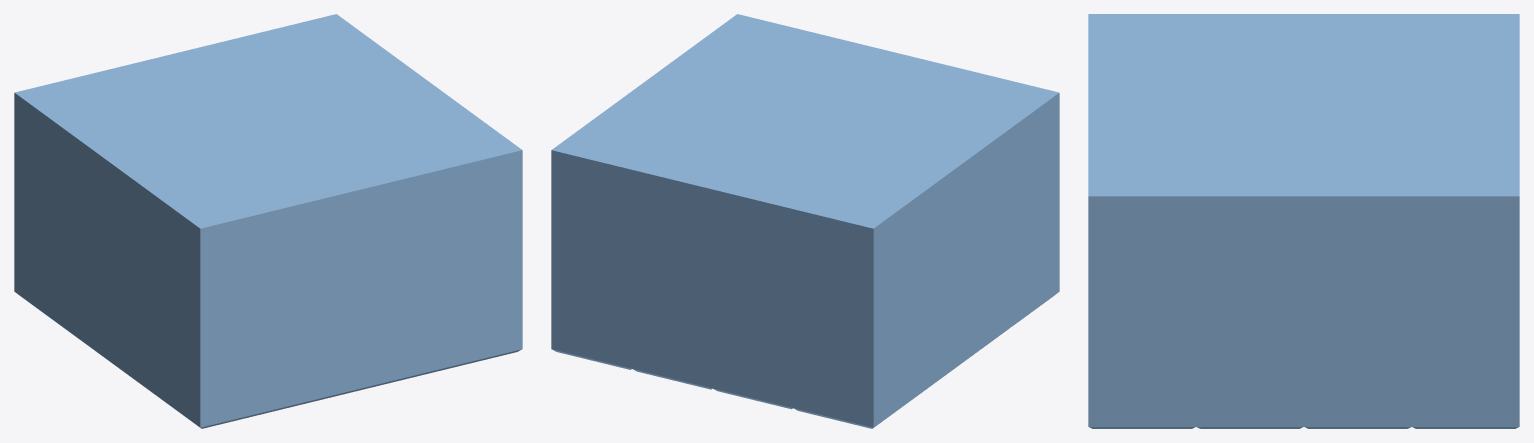
File: Ceiling001.fbx
The picture shows the model from 3 angles, left to right: view 1: azimuth 30°, elevation 25°; view 2: azimuth 150°, elevation 25°; view 3: azimuth 270°, elevation 25°; orthographic projection. The views are drawn at different scales.
Parts seen in each view (by area): view 1: Cube; view 2: Cube; view 3: Cube.
Part boxes in pixels (box(x1,y1,x2,y2)): Cube: box(14, 14, 522, 428); Cube: box(551, 14, 1059, 428); Cube: box(1088, 14, 1519, 428).
Size of the model in its own units: 100 by 60.03 by 100.
